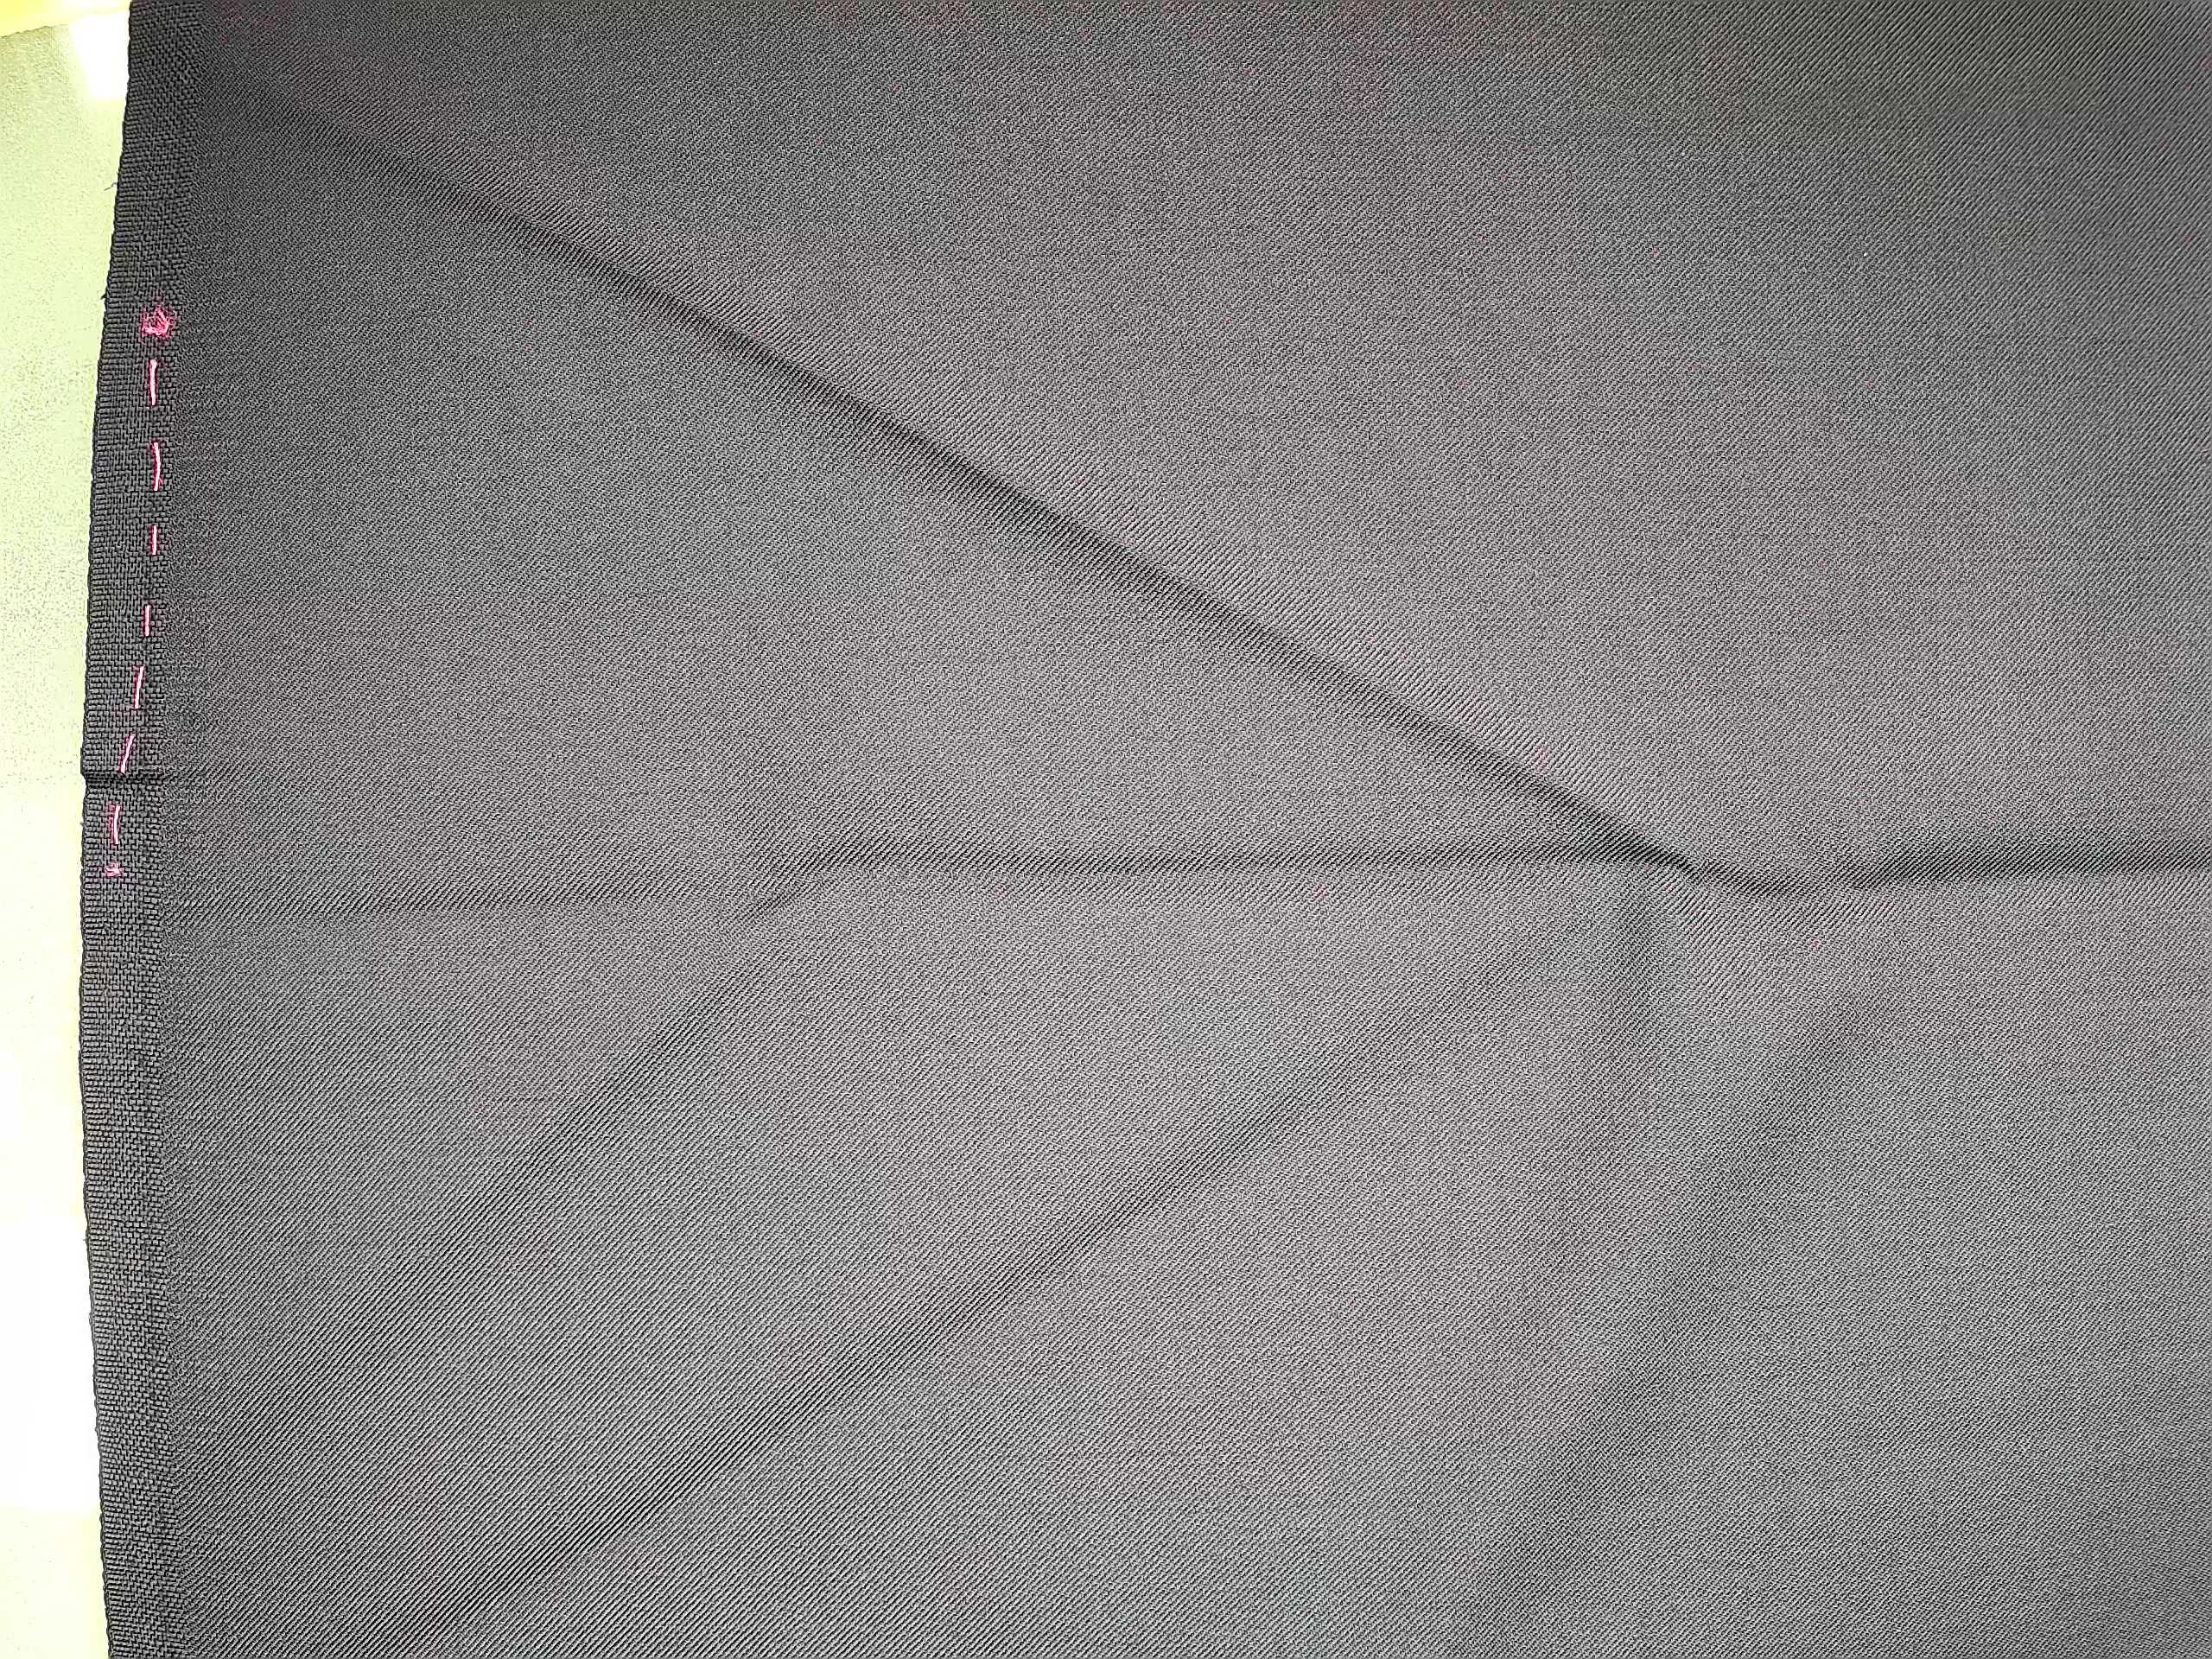others: (150, 207, 216, 967)
